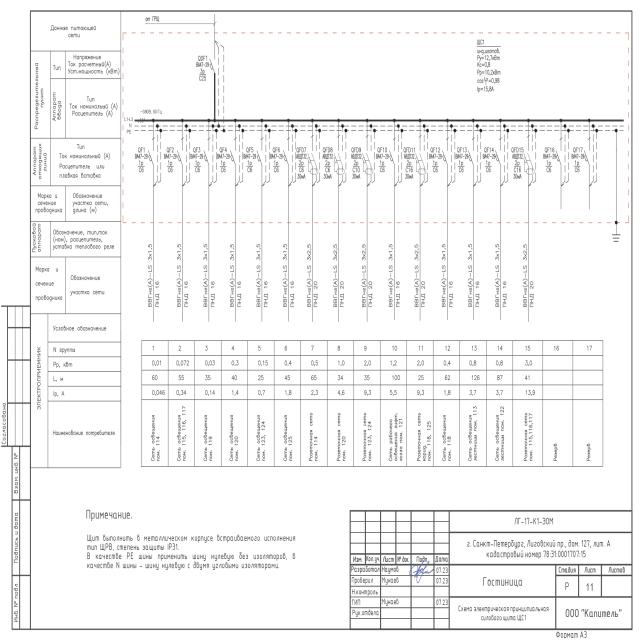-: (404, 153, 416, 181), (511, 154, 524, 178), (164, 153, 178, 175), (242, 153, 256, 175), (428, 153, 442, 175), (482, 153, 496, 175), (216, 153, 230, 174), (455, 154, 469, 175), (375, 153, 389, 174), (270, 153, 284, 174), (190, 153, 204, 174), (571, 153, 585, 174), (134, 153, 148, 174), (542, 154, 556, 174), (195, 62, 209, 82), (323, 154, 333, 182), (296, 153, 306, 181), (351, 154, 361, 180), (476, 37, 486, 47)
QF: (208, 56, 216, 76), (556, 148, 564, 166), (494, 148, 502, 166), (466, 148, 474, 166), (282, 148, 290, 166), (256, 148, 264, 166), (389, 148, 396, 166), (230, 148, 237, 166), (203, 148, 210, 166), (177, 148, 184, 166), (584, 148, 590, 166), (442, 148, 448, 166), (148, 147, 154, 165)
QFD: (523, 150, 535, 176), (415, 148, 427, 174), (362, 148, 374, 174), (333, 149, 345, 175), (307, 148, 319, 174)
